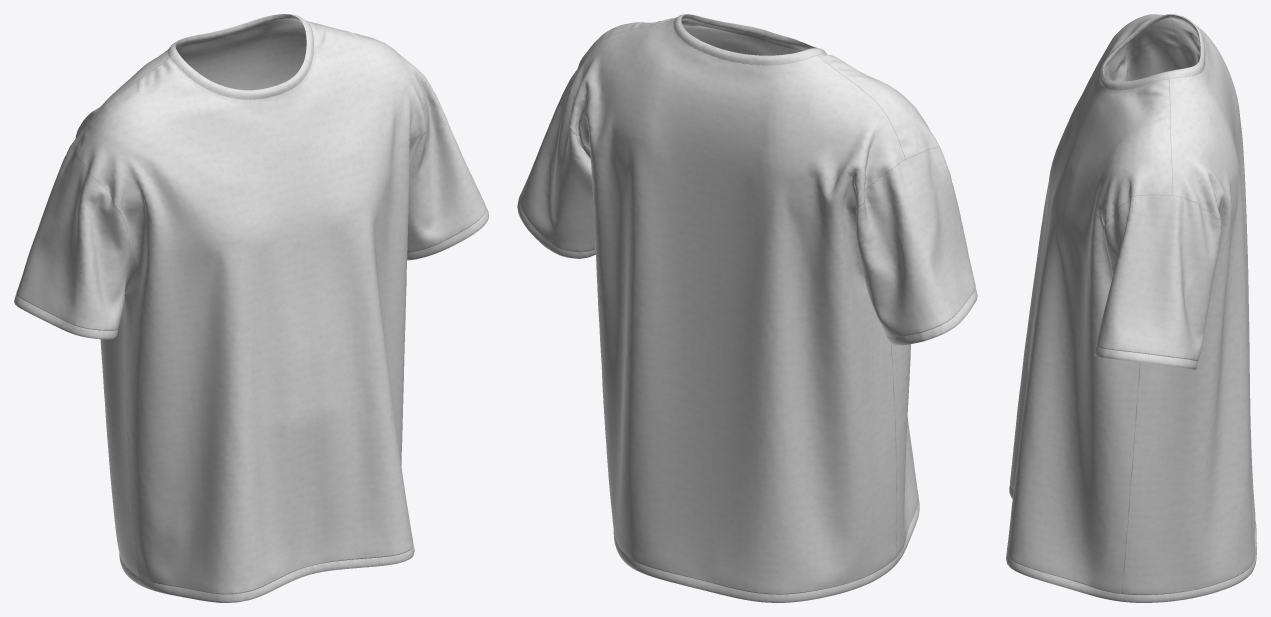
File: t-shirt.gltf
The picture shows the model from 3 angles, left to right: view 1: azimuth 30°, elevation 25°; view 2: azimuth 150°, elevation 25°; view 3: azimuth 270°, elevation 25°; orthographic projection. The views are drawn at different scales.
Parts seen in each view (by area): view 1: Object_4, Object_3, Object_5, Object_2; view 2: Object_4, Object_5, Object_3, Object_2; view 3: Object_4, Object_3, Object_5, Object_2.
Boxes of the visible parts, <box> form: Object_4: <box>16,20,426,594</box>; Object_3: <box>75,14,488,573</box>; Object_5: <box>95,20,306,558</box>; Object_2: <box>14,207,488,602</box>; Object_4: <box>569,18,975,594</box>; Object_5: <box>574,30,896,583</box>; Object_3: <box>518,14,939,594</box>; Object_2: <box>517,194,977,602</box>; Object_4: <box>1006,14,1255,594</box>; Object_3: <box>1010,14,1252,594</box>; Object_5: <box>1122,18,1254,593</box>; Object_2: <box>1006,346,1256,602</box>.
Size of the model in its own units: 0.637 by 0.7108 by 0.3212.
Materials: 1 (1 with a texture image).
